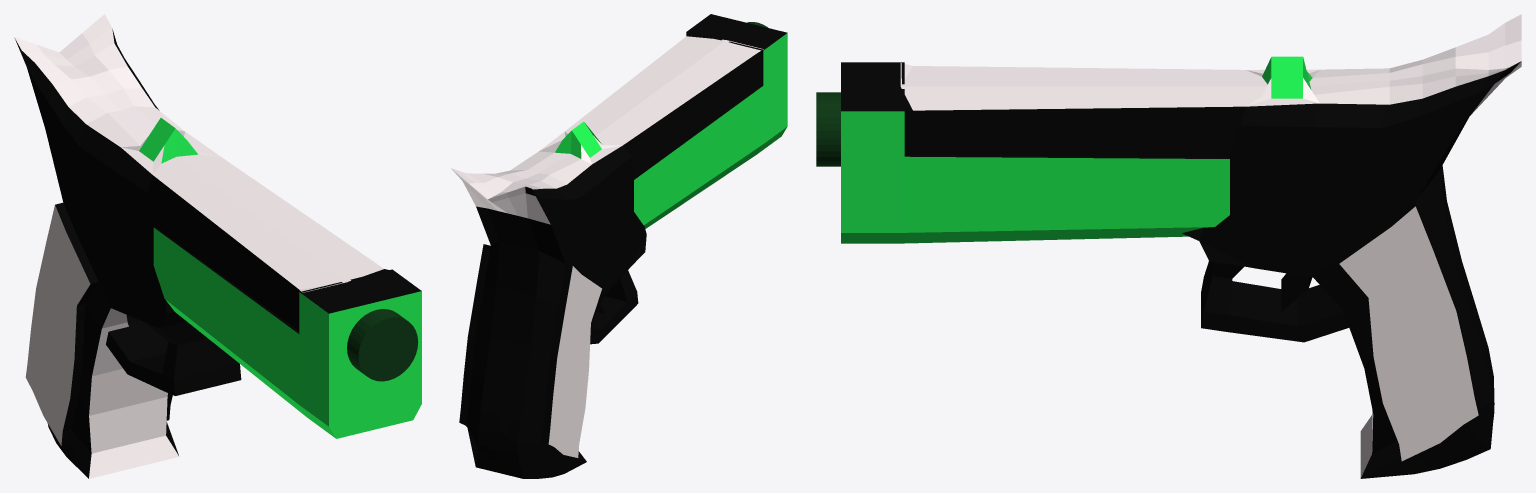
The model's file is pistol.fbx.
3 views of the same model, side by side, from view 1: azimuth 30°, elevation 25°; view 2: azimuth 150°, elevation 25°; view 3: azimuth 270°, elevation 25° (orthographic). The views are drawn at different scales.
Visible parts, largest first — view 1: Cube, Cylinder; view 2: Cube; view 3: Cube, Cylinder.
Part boxes in pixels (x1,y1,x2,y2): Cube: (14,14,421,478); Cylinder: (347,309,418,381); Cube: (451,14,787,478); Cube: (841,14,1521,478); Cylinder: (816,92,840,166).
Size of the model in its own units: 0.077 by 0.2646 by 0.4048.
